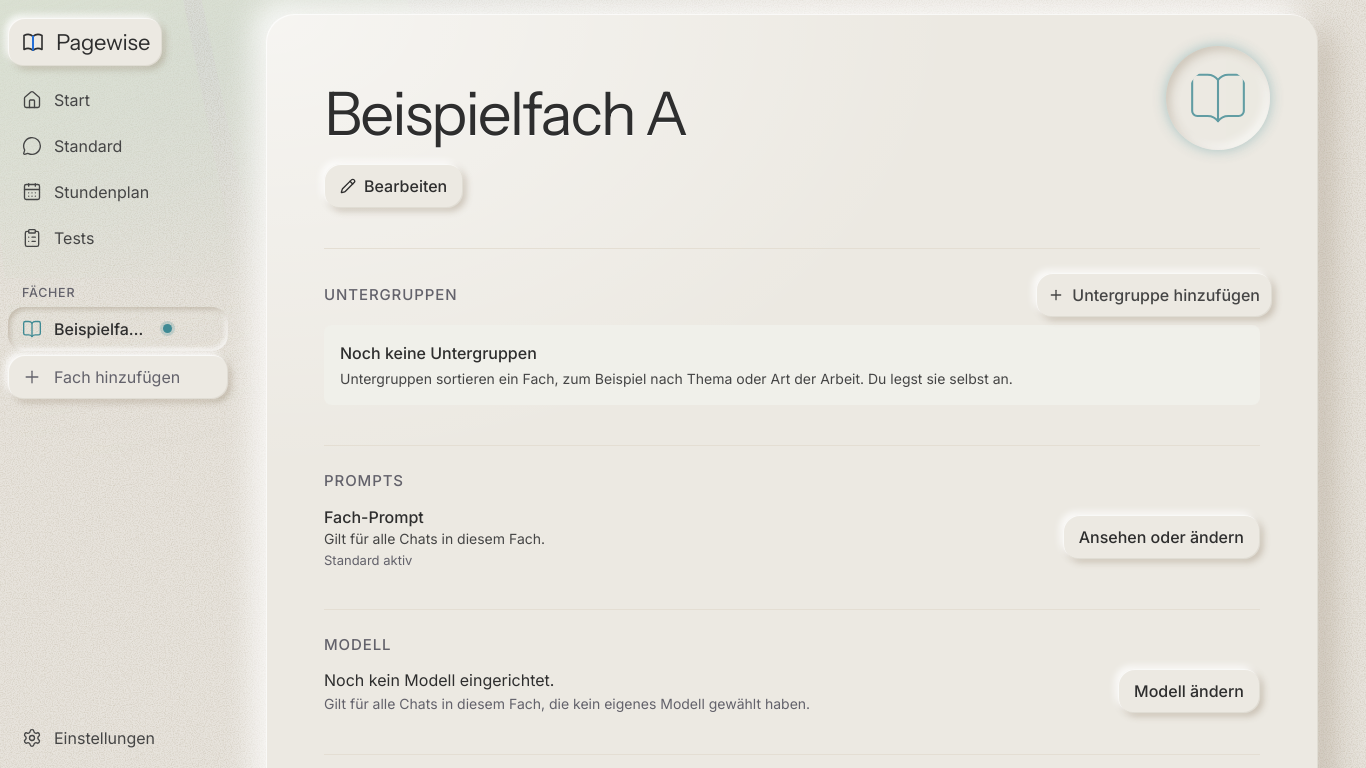
Standard-Prompt je Fach › zeigt „Standard aktiv“ und den Standardtext lesbar, ohne etwas zu speichern
Expected: the text "Standard aktiv" is shown, top-left (324, 552), bottom-right (412, 568)
Step 1. Click the button with aria-label "Fach-Prompt: Ansehen oder ändern" → [1161, 537], box top-left (1063, 515), bottom-right (1260, 559)
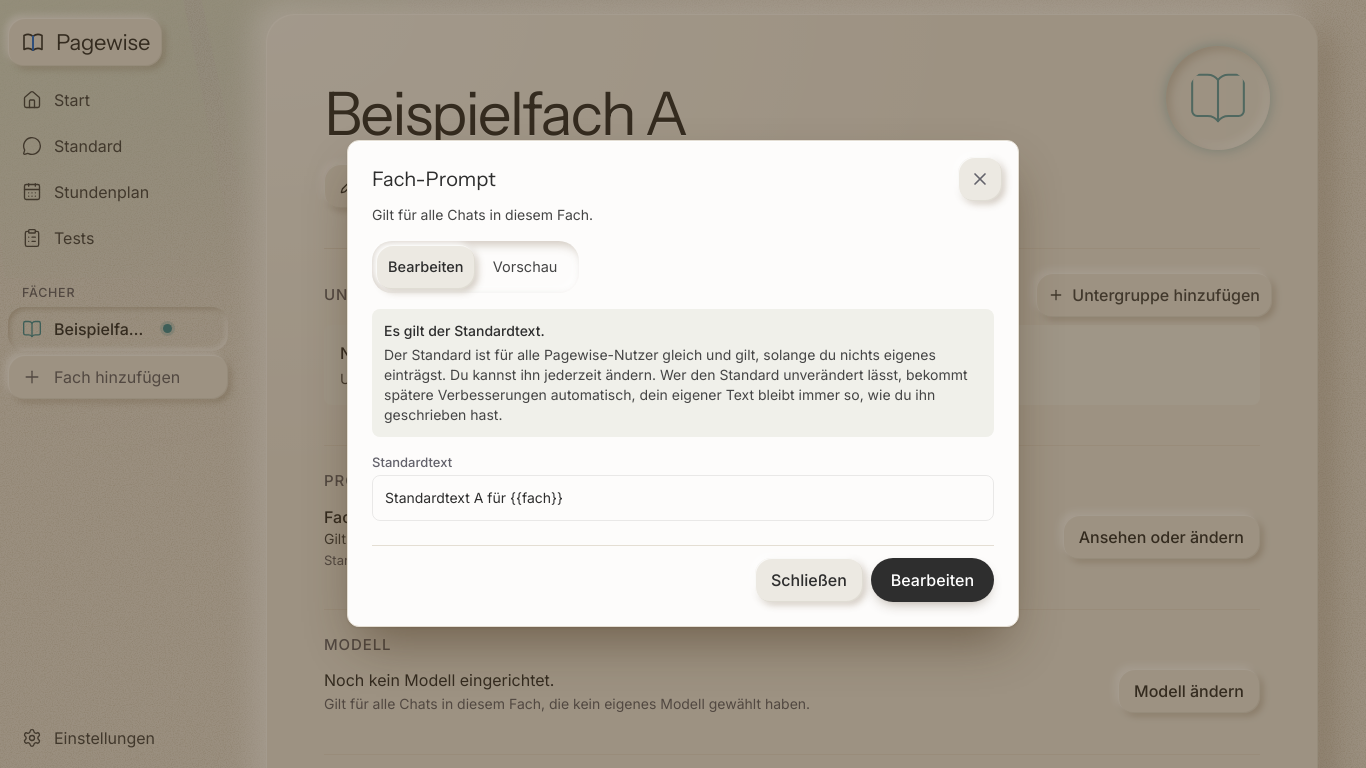
Result: the text "Es gilt der Standardtext." is shown at top-left (384, 322), bottom-right (545, 339)
Result: the text "Der Standard ist für alle Pagewise-Nutzer gleich" is shown at top-left (384, 346), bottom-right (968, 423)
Result: the text "Standardtext A für {{fach}}" is shown at top-left (372, 476), bottom-right (994, 522)
